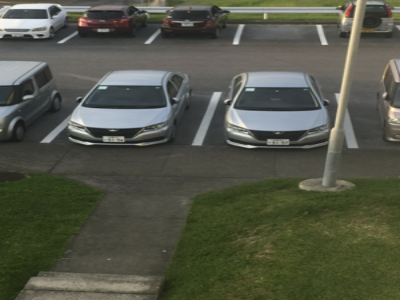licence: (103, 136, 125, 143), (268, 139, 289, 146)
